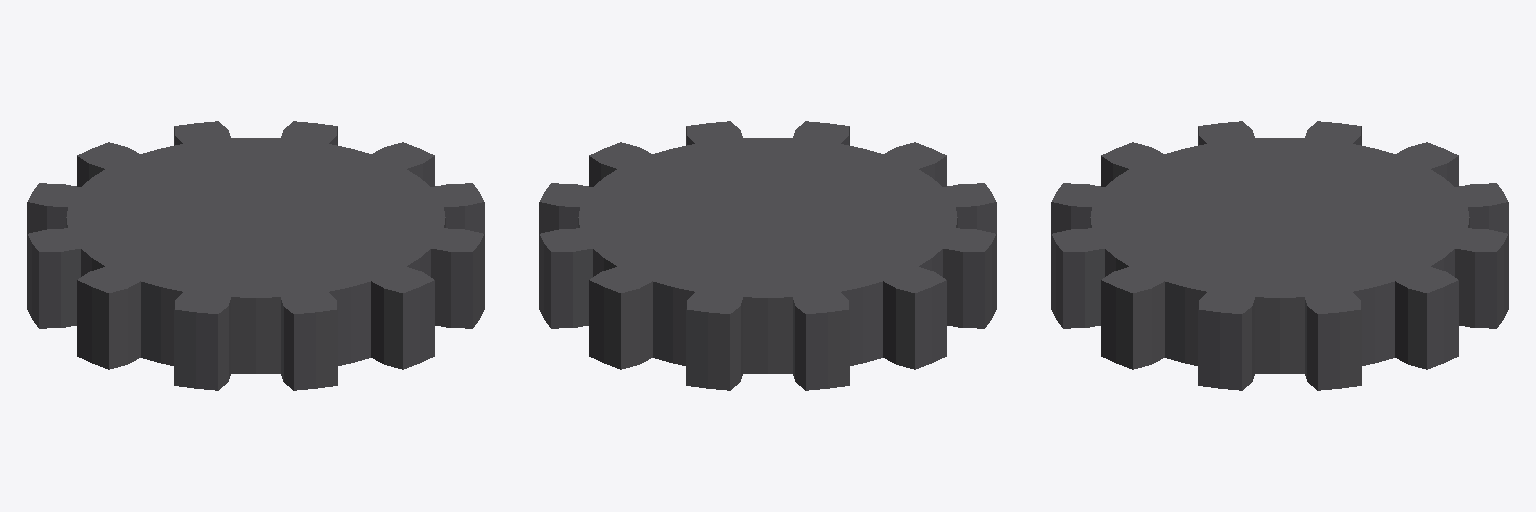
Rendered from Gear.obj.
3 renders of one model, left to right at view 1: azimuth 30°, elevation 25°; view 2: azimuth 150°, elevation 25°; view 3: azimuth 270°, elevation 25°, orthographic.
Parts seen in each view (by area): view 1: Meshesgear0011; view 2: Meshesgear0011; view 3: Meshesgear0011.
Part boxes in pixels (left/top/right/bottom): Meshesgear0011: left=27, top=121, right=484, bottom=390; Meshesgear0011: left=539, top=121, right=996, bottom=390; Meshesgear0011: left=1051, top=121, right=1508, bottom=390.
Size of the model in its own units: 2.17 by 0.4 by 2.17.